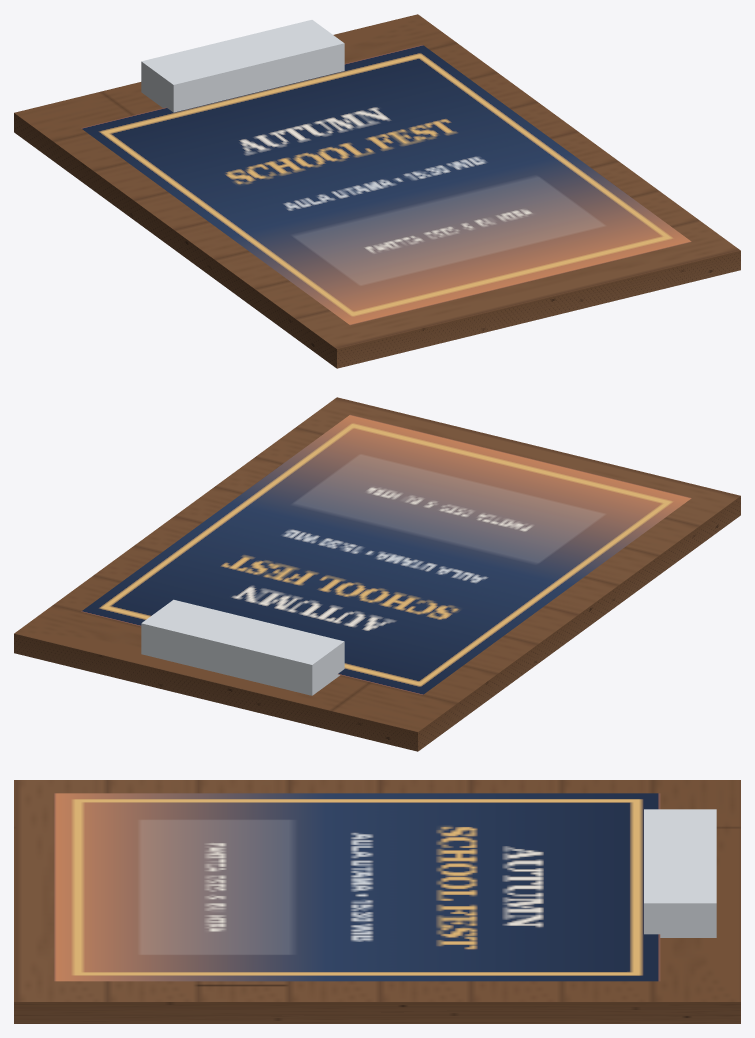
Rendered from ch5_prop_decor_blueprint_clipboard.glb.
3 renders of one model, top to bottom at view 1: azimuth 30°, elevation 25°; view 2: azimuth 150°, elevation 25°; view 3: azimuth 270°, elevation 25°, orthographic. The views are drawn at different scales.
Parts seen in each view (by area): view 1: ch5_prop_decor_blueprint_clipboard; view 2: ch5_prop_decor_blueprint_clipboard; view 3: ch5_prop_decor_blueprint_clipboard.
Boxes of the visible parts, left/top/right/bottom form: ch5_prop_decor_blueprint_clipboard: left=14, top=14, right=740, bottom=368; ch5_prop_decor_blueprint_clipboard: left=14, top=397, right=740, bottom=751; ch5_prop_decor_blueprint_clipboard: left=14, top=780, right=740, bottom=1023.
Size of the model in its own units: 0.26 by 0.031 by 0.36.
Materials: 3 (2 with a texture image).
